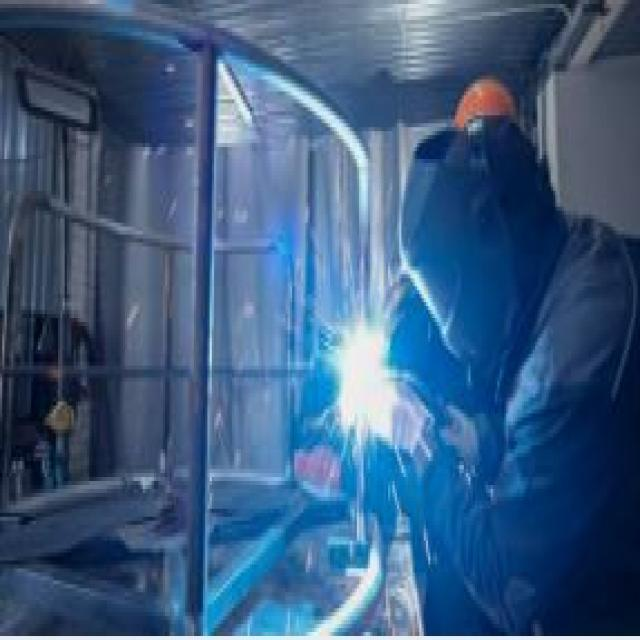welding: (342, 327, 392, 414)
